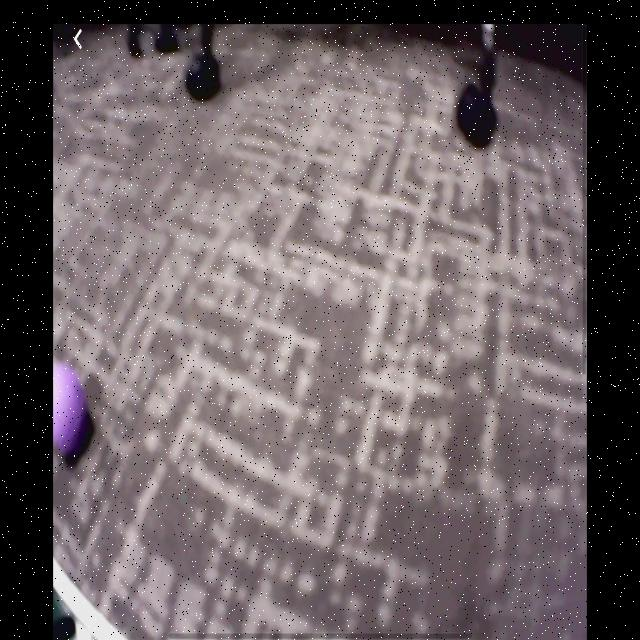ball: (53, 359, 96, 469)
